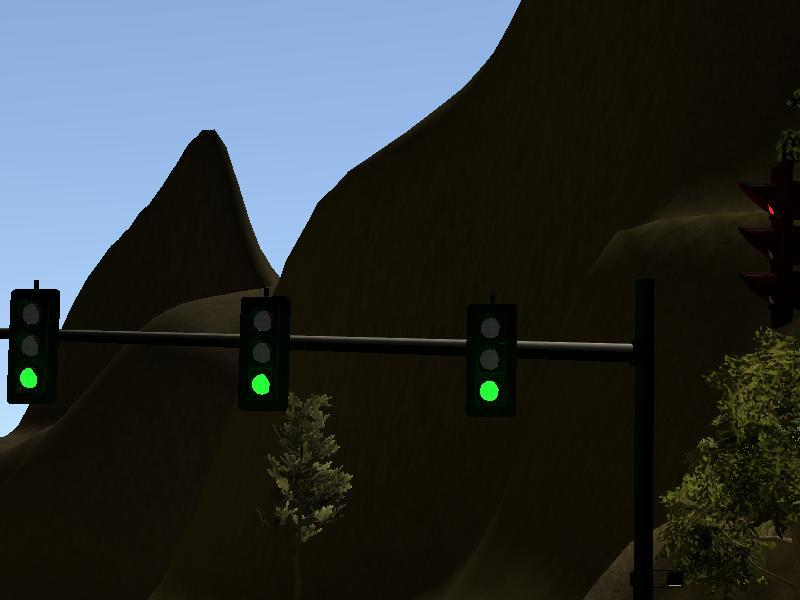Green: (462, 305, 515, 419), (237, 297, 290, 411), (7, 289, 60, 403)
